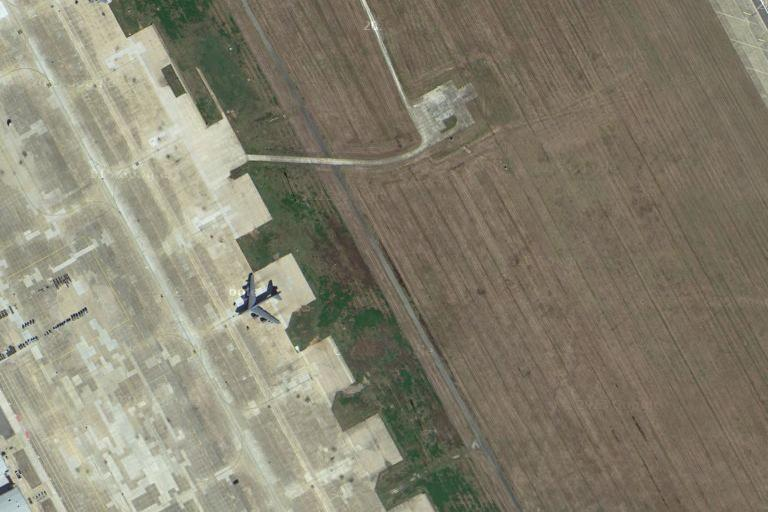B-52: (232, 270, 286, 329)
